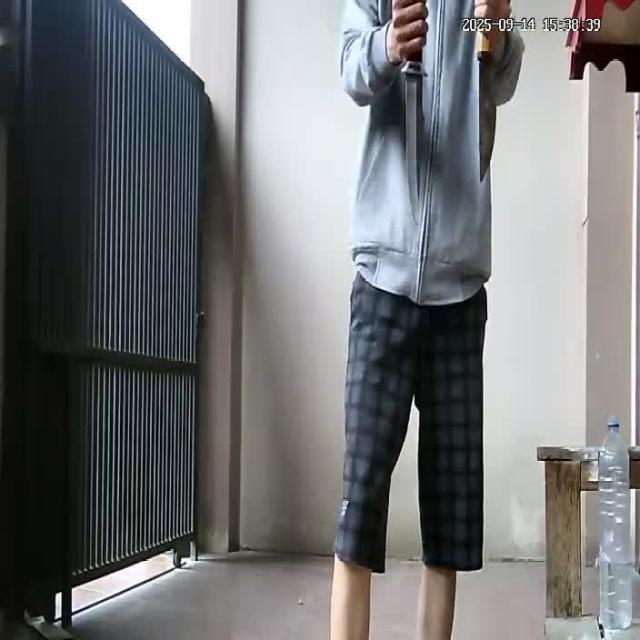senjata_tajam: (401, 58, 430, 227), (476, 31, 499, 188)
